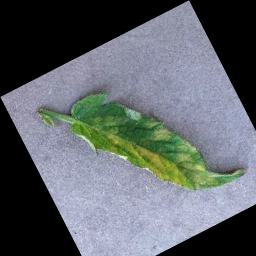Leaf_Mold: (99, 93, 224, 223), (141, 110, 175, 148)
